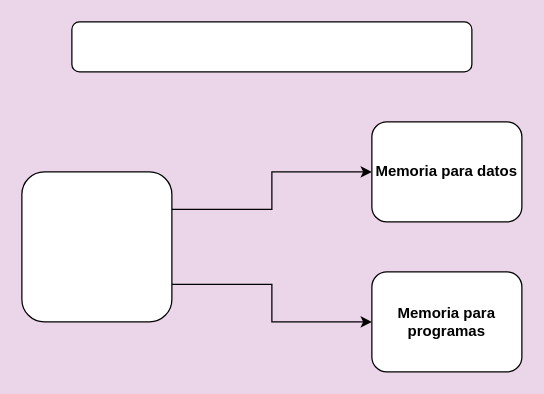
The diagram is 544 pixels wide and 394 high, and some of its shapes have lost their labels. Each missing label, with the box of its shape:
Arquitectura de Harvard: (71, 21, 472, 72)
CPU: (21, 171, 172, 322)
